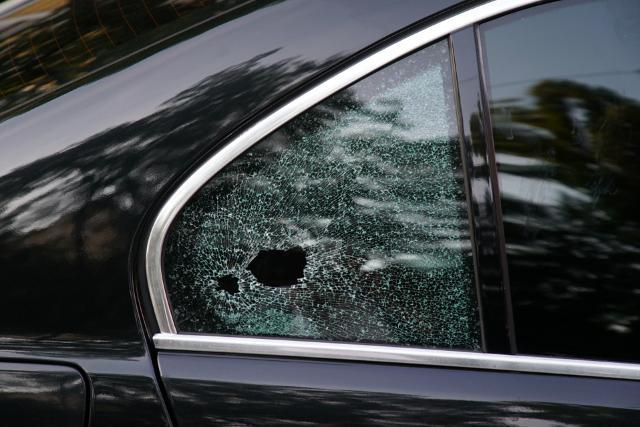Door: (134, 0, 639, 425)
